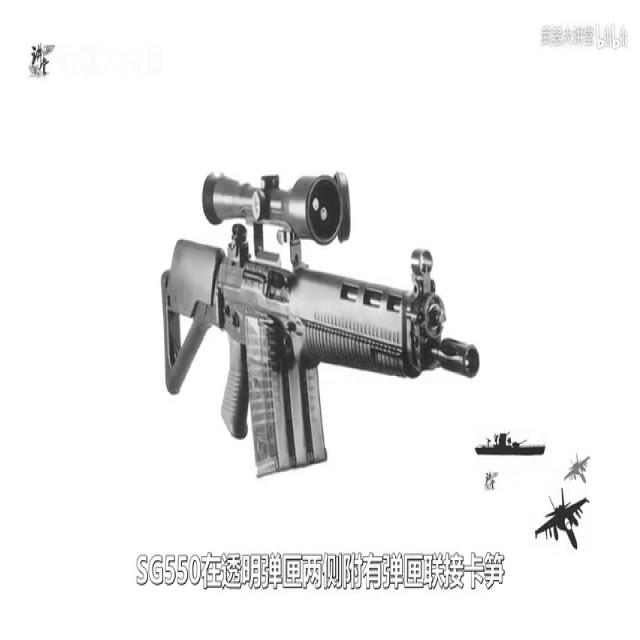Sub-machine-gun: (150, 143, 466, 508)
